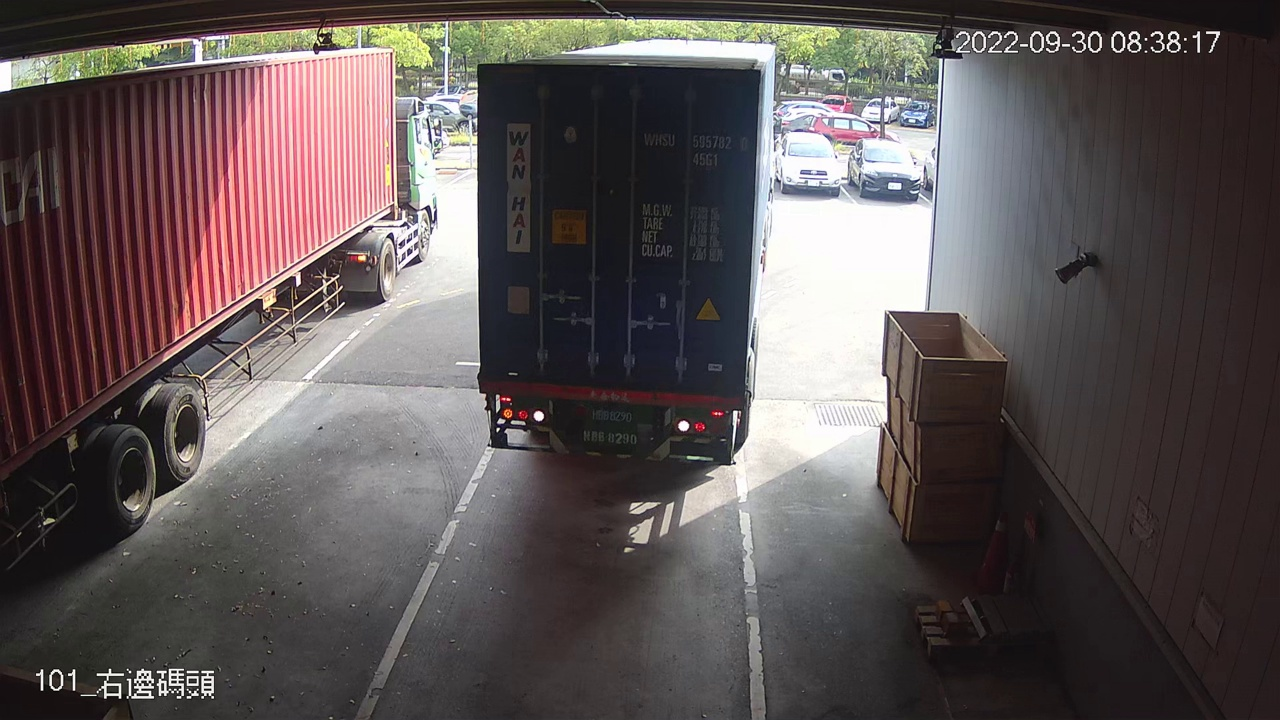container: (635, 122, 756, 173)
